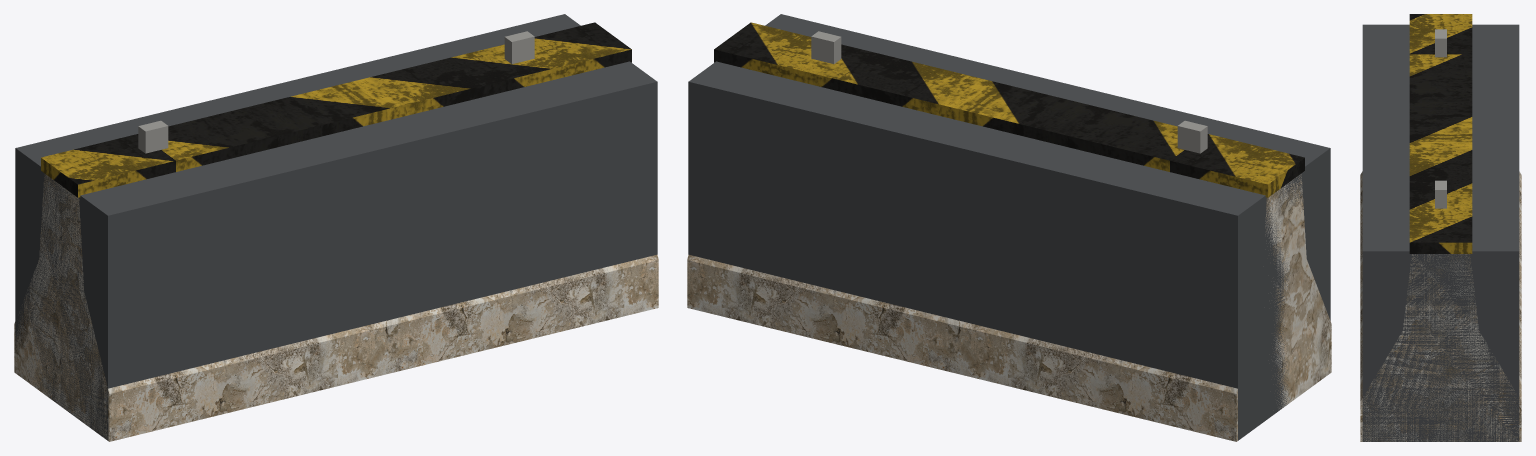
Rendered from CheckpointBarrier.glb.
3 views of the same model, side by side, from view 1: azimuth 30°, elevation 25°; view 2: azimuth 150°, elevation 25°; view 3: azimuth 270°, elevation 25° (orthographic). The views are drawn at different scales.
Parts seen in each view (by area): view 1: COL_Barrier, Jersey barrier, Hazard steel cap, Barrier lifting eye.001, Barrier lifting eye; view 2: COL_Barrier, Jersey barrier, Hazard steel cap, Barrier lifting eye.001, Barrier lifting eye; view 3: COL_Barrier, Hazard steel cap, Jersey barrier, Barrier lifting eye, Barrier lifting eye.001.
Part boxes in pixels (x1,y1,x2,y2): COL_Barrier: (15, 14, 657, 440); Jersey barrier: (14, 174, 658, 441); Hazard steel cap: (41, 22, 631, 197); Barrier lifting eye.001: (138, 120, 168, 153); Barrier lifting eye: (504, 31, 534, 63); COL_Barrier: (688, 14, 1330, 440); Jersey barrier: (687, 174, 1331, 441); Hazard steel cap: (714, 22, 1304, 197); Barrier lifting eye.001: (1177, 120, 1207, 153); Barrier lifting eye: (811, 31, 841, 63); COL_Barrier: (1362, 24, 1519, 441); Hazard steel cap: (1409, 14, 1472, 253); Jersey barrier: (1360, 171, 1521, 441); Barrier lifting eye: (1435, 180, 1446, 208); Barrier lifting eye.001: (1435, 29, 1446, 57).
Size of the model in its own units: 2.42 by 1.08 by 0.72.
5 materials, 2 textured.
